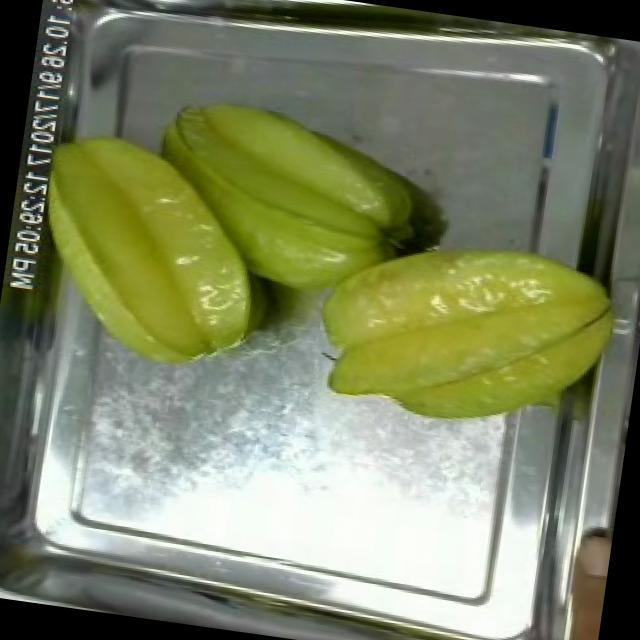fruit: (294, 204, 638, 456), (130, 79, 444, 321), (12, 112, 282, 387)
